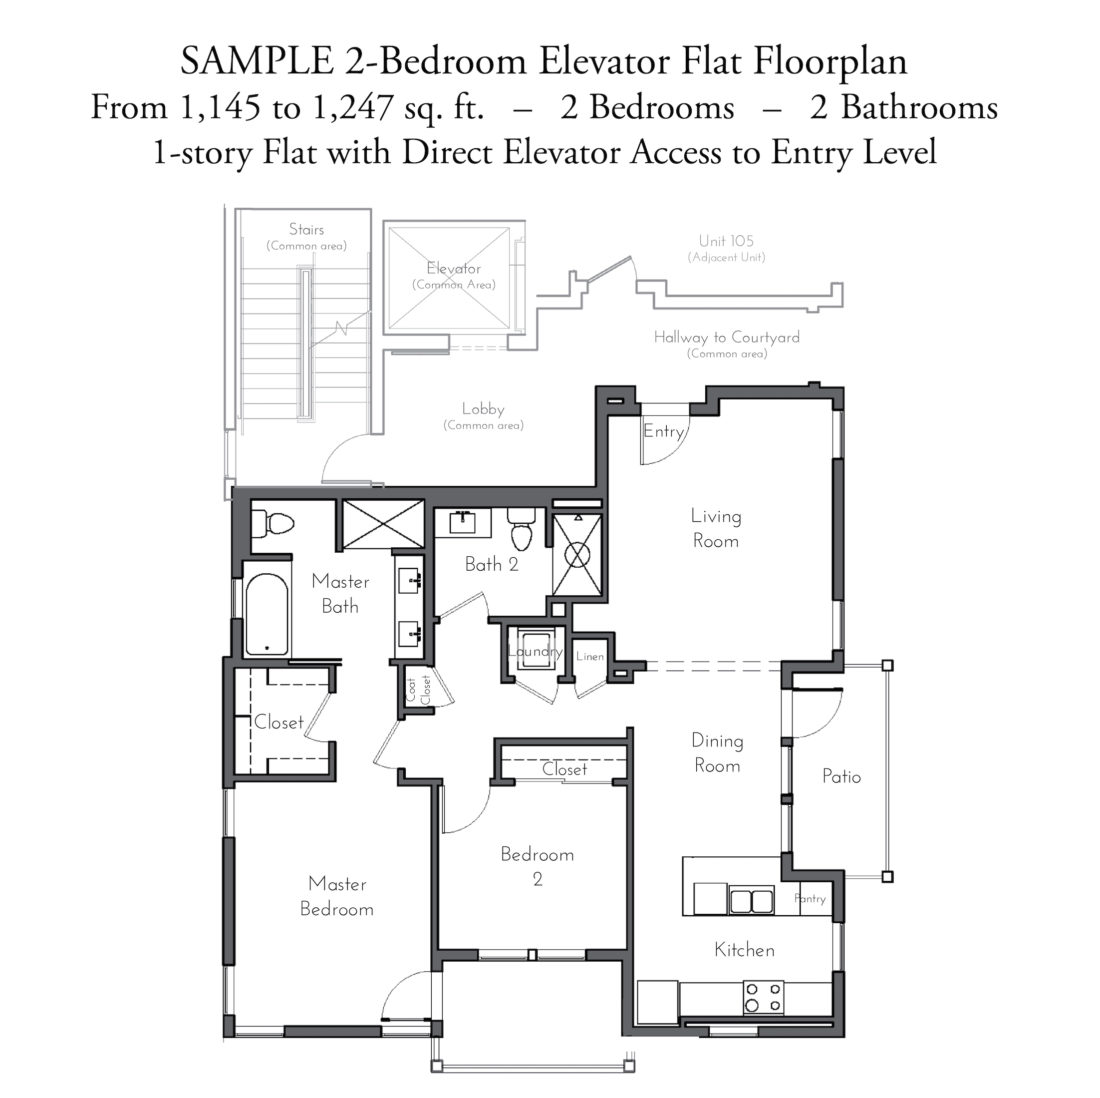door: (358, 969, 424, 1022), (804, 679, 862, 738), (440, 792, 491, 841), (358, 733, 394, 779), (435, 594, 498, 612), (299, 704, 322, 749)
room: (598, 386, 847, 672), (221, 776, 442, 1038), (627, 866, 845, 1041), (431, 779, 631, 961), (234, 492, 432, 669), (631, 672, 778, 858), (429, 490, 608, 605), (229, 659, 334, 781), (491, 735, 634, 779)
window: (535, 946, 586, 964), (221, 787, 239, 836), (380, 1023, 427, 1040), (483, 946, 529, 959), (234, 1027, 281, 1038), (224, 969, 234, 1006)
